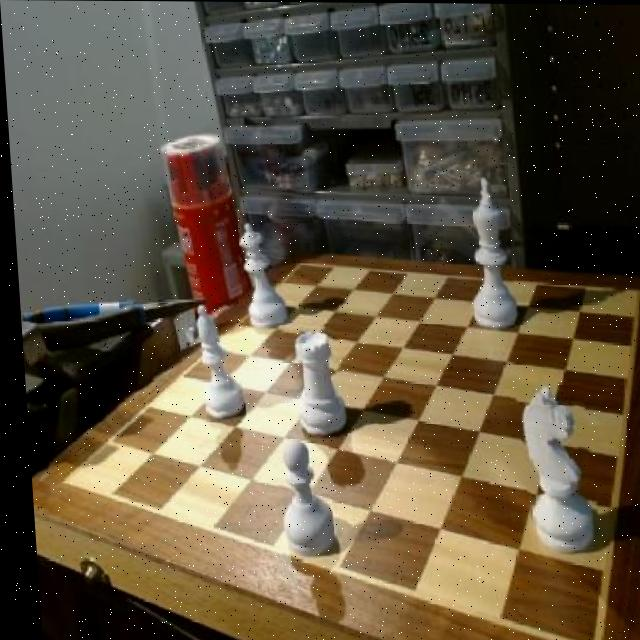black-rook: (191, 304, 233, 425)
white-bishop: (458, 177, 513, 331)
white-king: (512, 381, 592, 553)
white-knight: (267, 440, 328, 561)
white-pawn: (235, 223, 279, 333)
white-queen: (290, 325, 340, 443)
